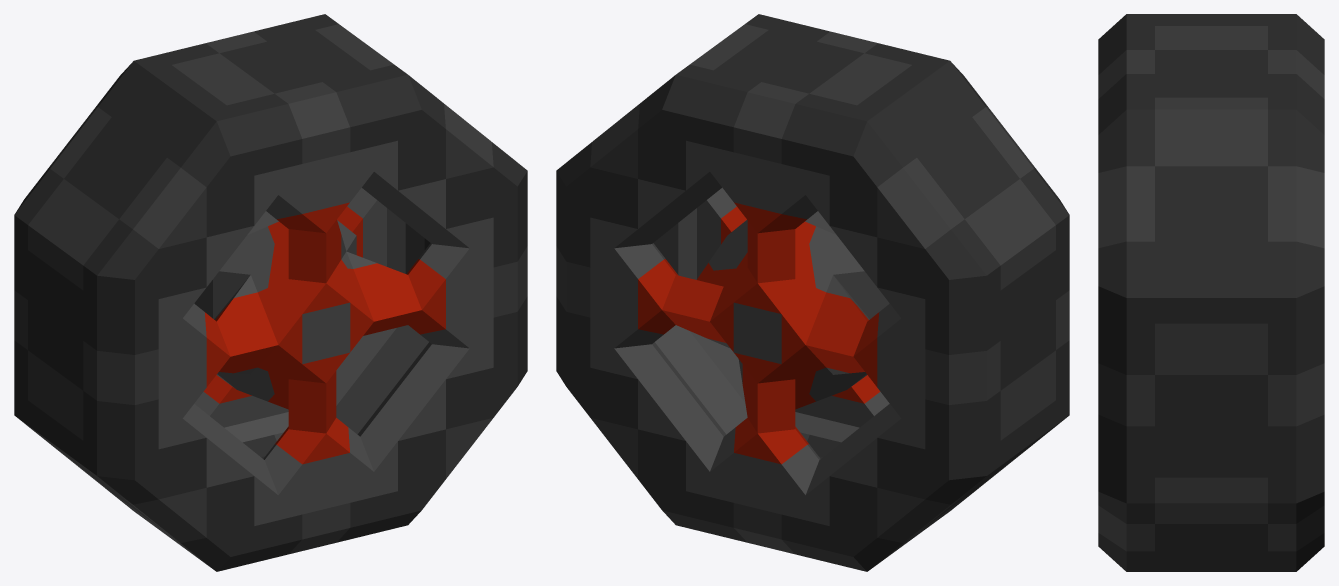
Rendered from rccar_wheel_btype.fbx.
3 renders of one model, left to right at view 1: azimuth 30°, elevation 25°; view 2: azimuth 150°, elevation 25°; view 3: azimuth 270°, elevation 25°, orthographic. The views are drawn at different scales.
Visible parts, largest first — view 1: rccar_wheel_btype; view 2: rccar_wheel_btype; view 3: rccar_wheel_btype.
Boxes of the visible parts, x1=… form: rccar_wheel_btype: x1=14, y1=14, x2=527, y2=571; rccar_wheel_btype: x1=556, y1=14, x2=1069, y2=571; rccar_wheel_btype: x1=1098, y1=14, x2=1324, y2=571.
Size of the model in its own units: 354 by 354 by 157.
